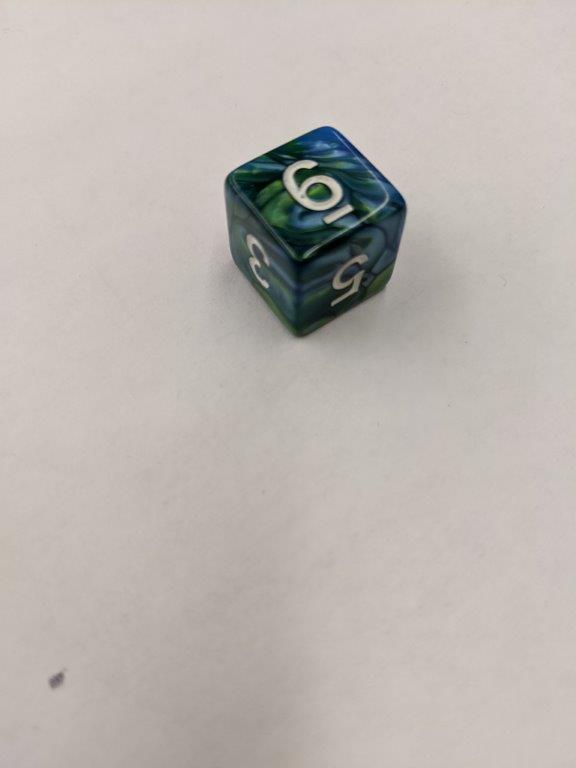d6-6: (223, 123, 410, 339)
